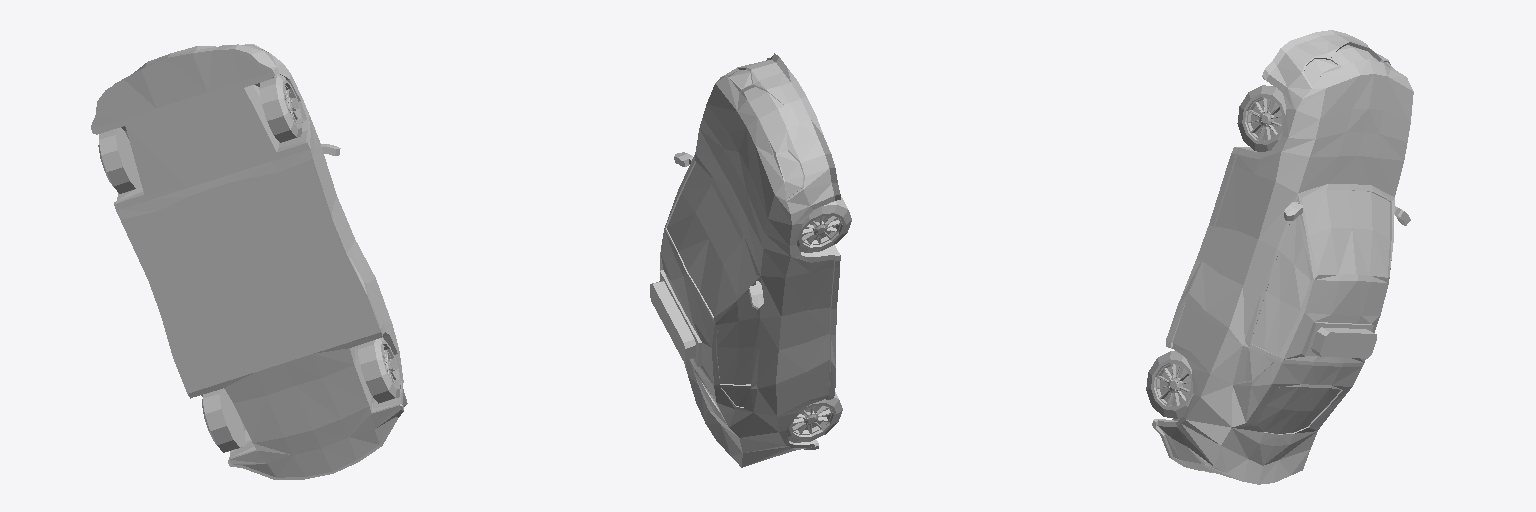
The model's file is Cop.obj.
3 views of the same model, side by side, from view 1: azimuth 30°, elevation 25°; view 2: azimuth 150°, elevation 25°; view 3: azimuth 270°, elevation 25° (orthographic).
Visible parts, largest first — view 1: Cop_FrontRightWheel_Cylinder.012; view 2: Cop_FrontRightWheel_Cylinder.012; view 3: Cop_FrontRightWheel_Cylinder.012.
Part boxes in pixels (bbox=[...]): Cop_FrontRightWheel_Cylinder.012: bbox=[91, 44, 407, 479]; Cop_FrontRightWheel_Cylinder.012: bbox=[650, 53, 851, 467]; Cop_FrontRightWheel_Cylinder.012: bbox=[1146, 30, 1413, 484].
Size of the model in its own units: 2.2 by 3.66 by 2.14.